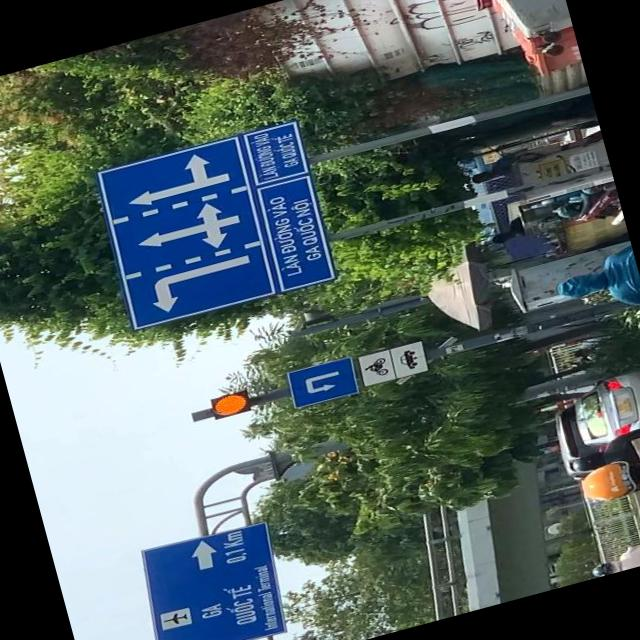I-409: (288, 356, 356, 406)
